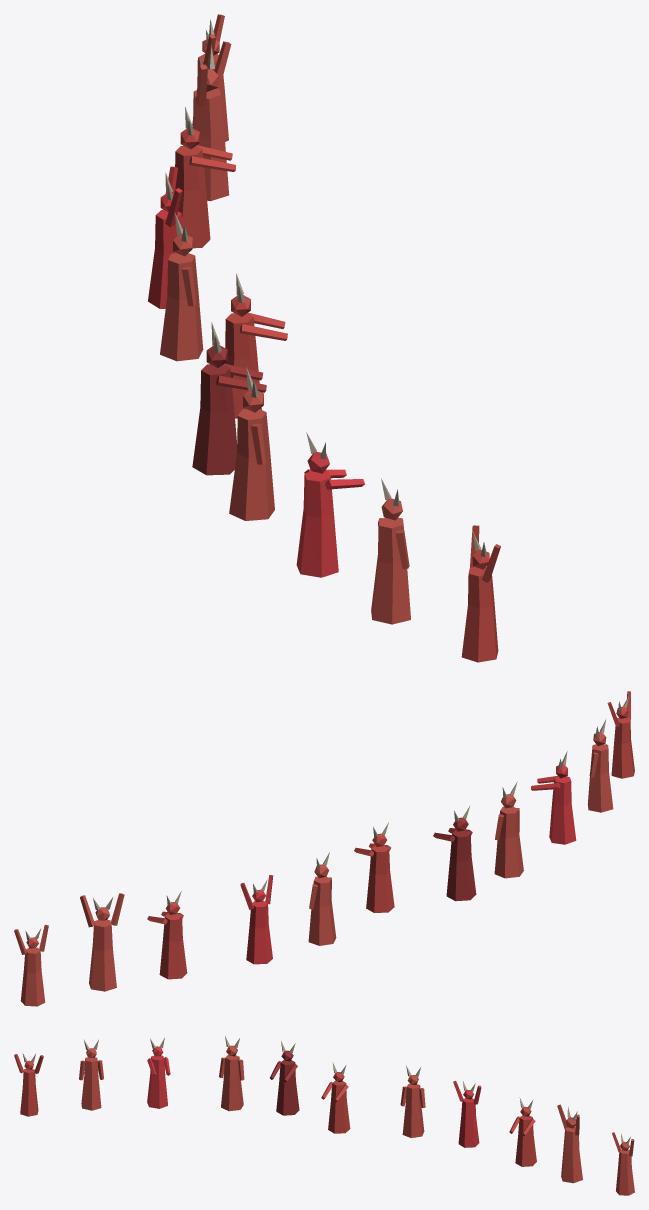
The model's file is Stands_7_0_0.obj.
3 renders of one model, top to bottom at view 1: azimuth 30°, elevation 25°; view 2: azimuth 150°, elevation 25°; view 3: azimuth 270°, elevation 25°, orthographic. The views are drawn at different scales.
Parts seen in each view (by area): view 1: Stands_7_0_0; view 2: Stands_7_0_0; view 3: Stands_7_0_0.
Boxes of the visible parts, box(x1,y1,x2,y2) form: Stands_7_0_0: box(148, 14, 500, 662); Stands_7_0_0: box(14, 691, 634, 1006); Stands_7_0_0: box(14, 1036, 634, 1195).
Bounding box in the file's own units: 12.28 × 4.1 × 32.99.
1 material, 1 textured.
